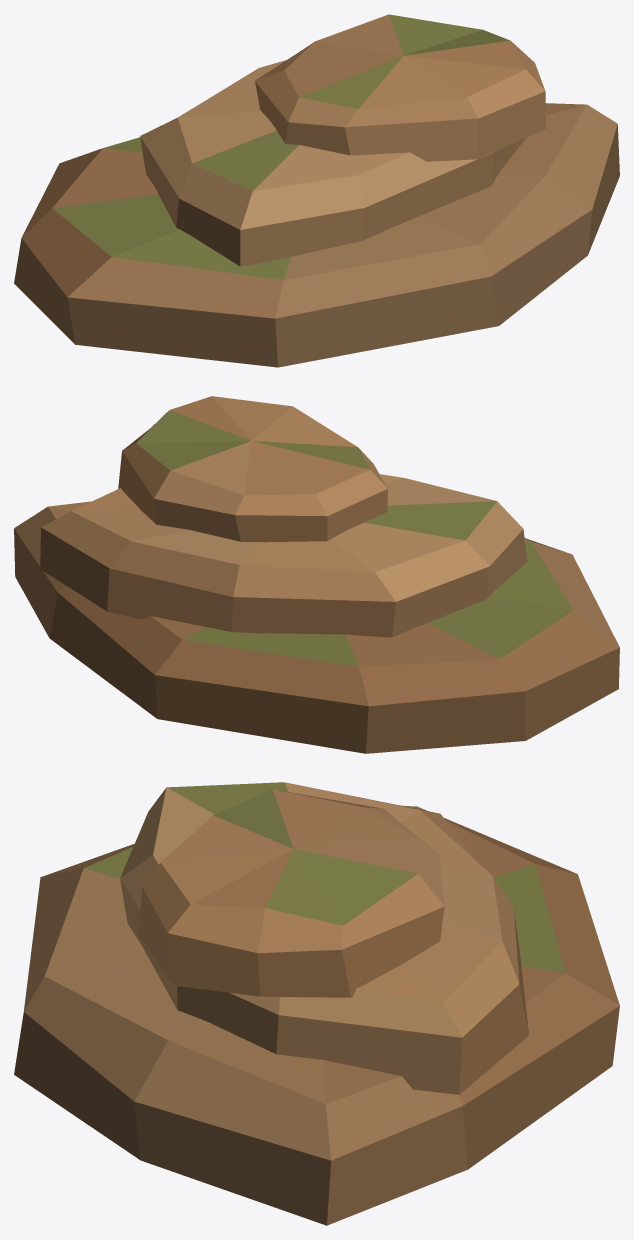
Rendered from gk_rock_sandstone_ledge.glb.
The picture shows the model from 3 angles, top to bottom: view 1: azimuth 30°, elevation 25°; view 2: azimuth 150°, elevation 25°; view 3: azimuth 270°, elevation 25°; orthographic projection. The views are drawn at different scales.
Visible parts, largest first — view 1: gk_rock_sandstone_ledge; view 2: gk_rock_sandstone_ledge; view 3: gk_rock_sandstone_ledge.
Boxes of the visible parts, x1,y1,x2,y2 form: gk_rock_sandstone_ledge: [14, 14, 619, 367]; gk_rock_sandstone_ledge: [14, 396, 619, 753]; gk_rock_sandstone_ledge: [14, 782, 619, 1225].
Bounding box in the file's own units: 1.69 × 0.512 × 1.2.
